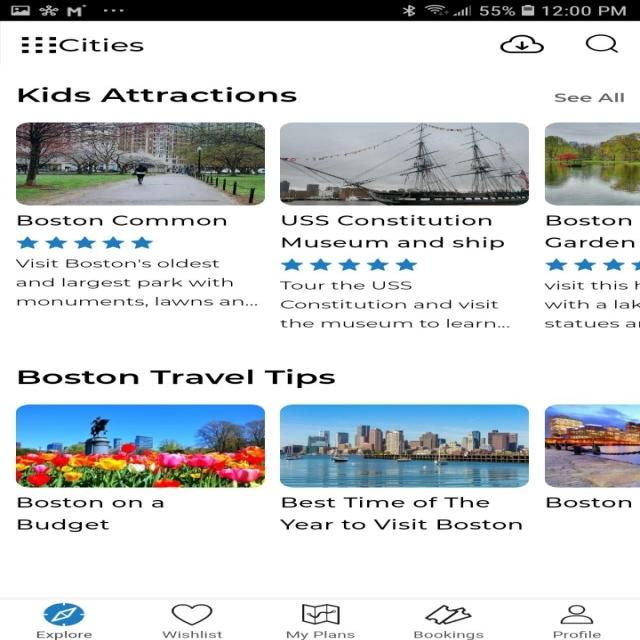Icon: (280, 258, 417, 271), (16, 236, 153, 249), (544, 258, 639, 271), (44, 602, 84, 626), (424, 604, 471, 624), (170, 603, 212, 625), (498, 34, 544, 54), (302, 603, 339, 625), (560, 604, 593, 624), (584, 34, 618, 53), (21, 37, 57, 53)
Image: (279, 403, 529, 488), (16, 403, 265, 488), (279, 122, 528, 205), (16, 122, 265, 205), (544, 122, 639, 205), (544, 405, 639, 487)
Text: (15, 259, 257, 307), (279, 280, 509, 328), (280, 496, 522, 529), (282, 215, 504, 250), (18, 368, 336, 388), (17, 497, 164, 532), (543, 280, 639, 328), (19, 86, 297, 102), (544, 215, 635, 247), (18, 215, 226, 225), (59, 38, 144, 51), (546, 497, 630, 507), (413, 630, 483, 640), (286, 630, 355, 640), (554, 93, 624, 102), (36, 630, 92, 640), (162, 630, 222, 638), (553, 630, 601, 638)
